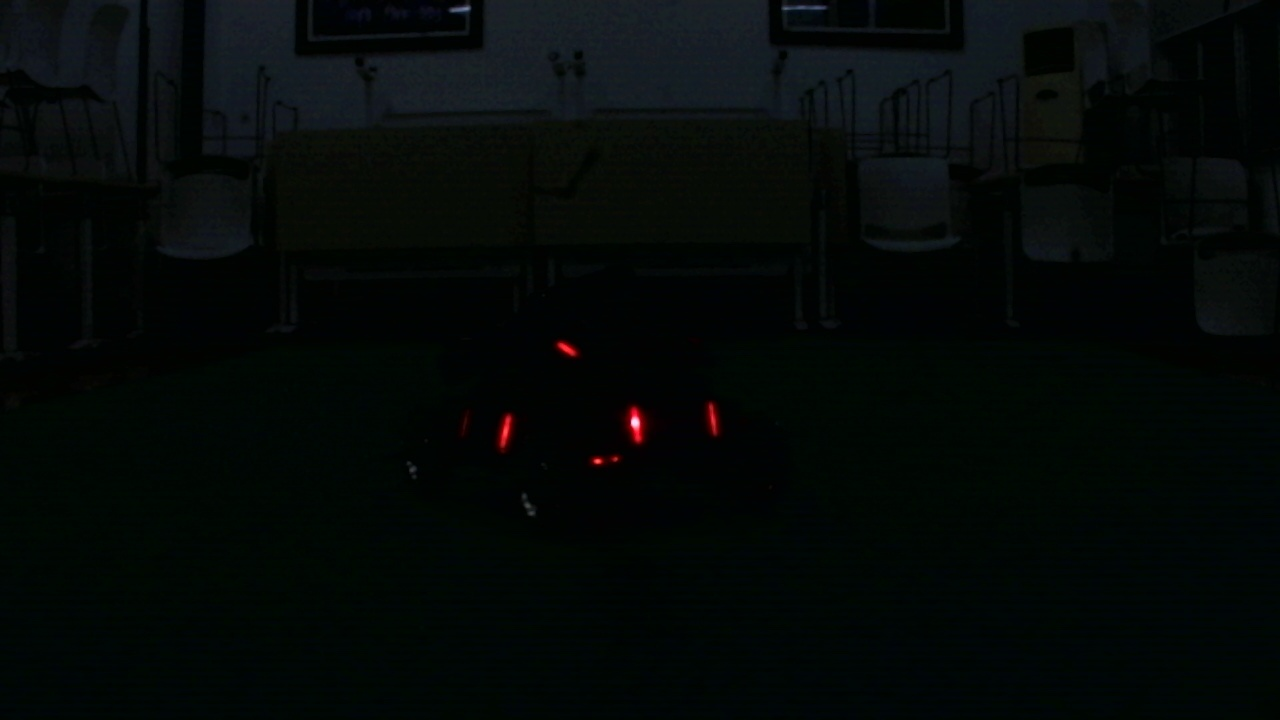lamp: (624, 404, 645, 438), (704, 402, 718, 443), (495, 410, 511, 443)
pair1: (627, 398, 721, 439)
